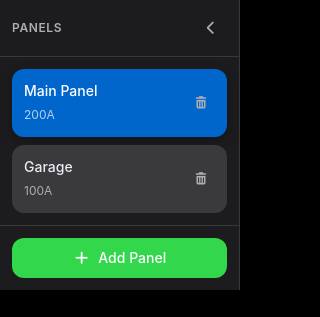
PanelDrawer › inline renaming › should enter edit mode on double-click
Double-click the text "Main Panel".
double_click(61, 90)  # box left=24, top=82, right=98, bottom=99
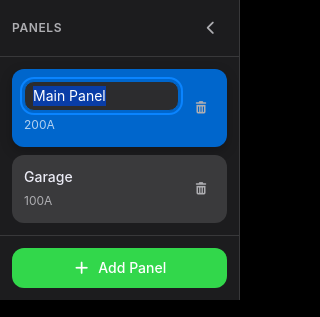
expect the field holds "Main Panel": met, box left=24, top=81, right=179, bottom=111
